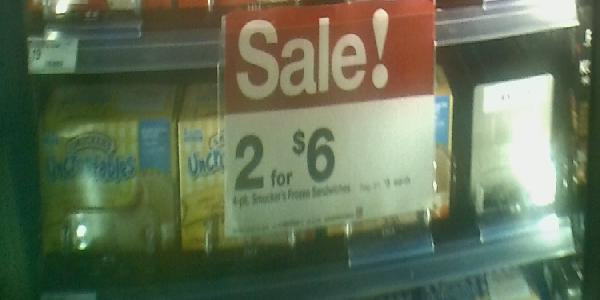icecream: (33, 100, 178, 266), (180, 109, 319, 252), (327, 92, 457, 231)
